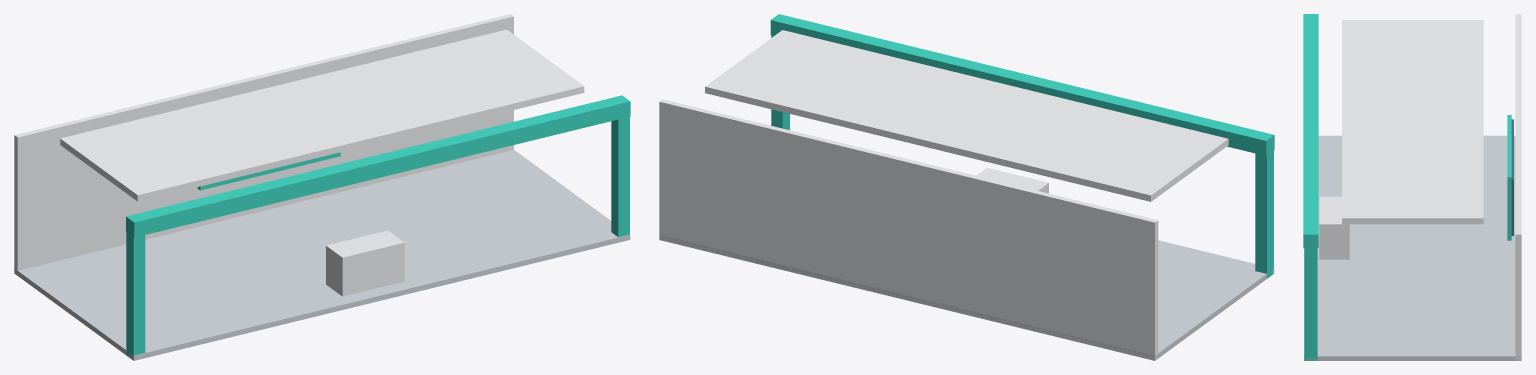
The picture shows the model from 3 angles, left to right: view 1: azimuth 30°, elevation 25°; view 2: azimuth 150°, elevation 25°; view 3: azimuth 270°, elevation 25°; orthographic projection. The views are drawn at different scales.
Visible parts, largest first — view 1: Exhibition Booth Concept; view 2: Exhibition Booth Concept; view 3: Exhibition Booth Concept.
Part boxes in pixels (left/top/right/bottom): Exhibition Booth Concept: left=14, top=14, right=630, bottom=360; Exhibition Booth Concept: left=659, top=14, right=1274, bottom=360; Exhibition Booth Concept: left=1303, top=14, right=1521, bottom=360.
Bounding box in the file's own units: 12 × 3.34 × 5.02.
